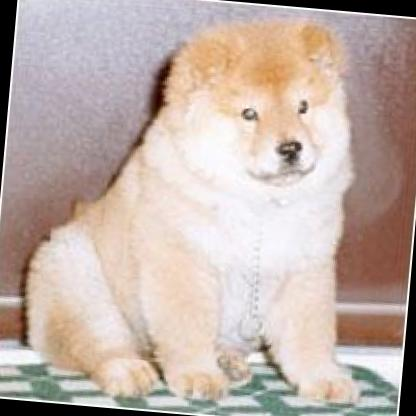chow: (10, 0, 402, 416)
